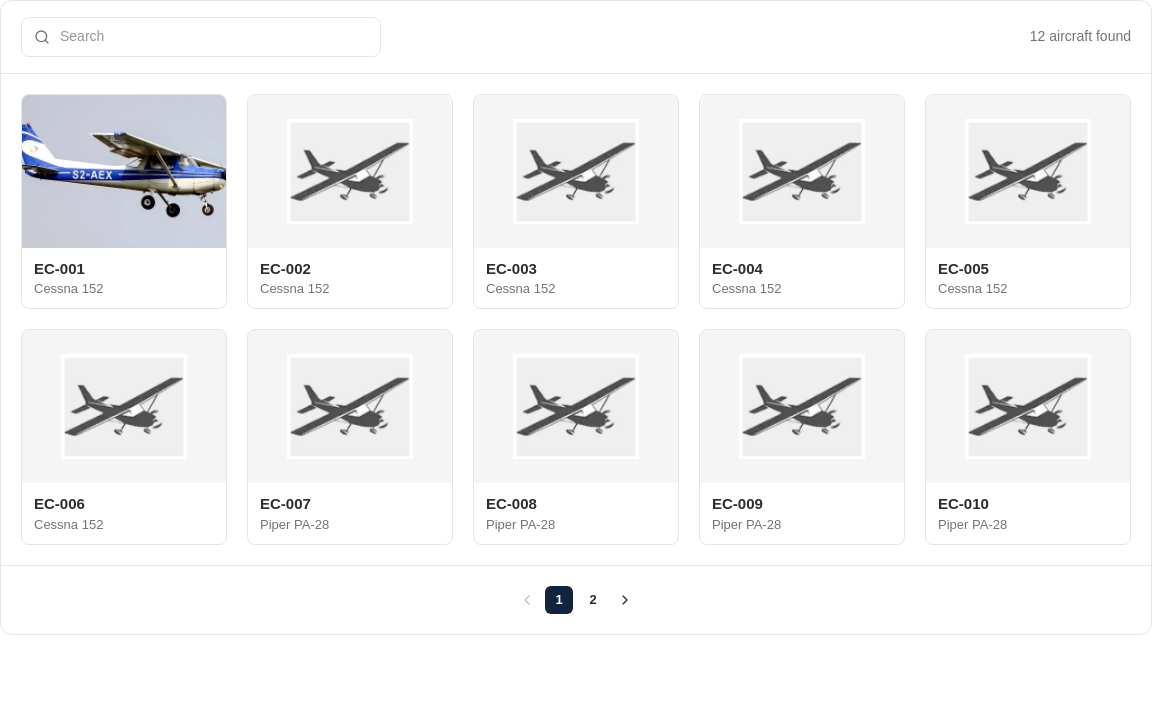
Test case: AircraftDirectory › paginates the fleet with the arrows and the numbered pages, disabling each end
The width and height of the screenshot is (1152, 720).
Expected: the link "EC-001 Cessna 152" is shown, [21, 94, 227, 309]
Expected: the link "EC-011 " is not shown
Click the button named "Next page". click: click(625, 600)
box: [613, 588, 637, 612]
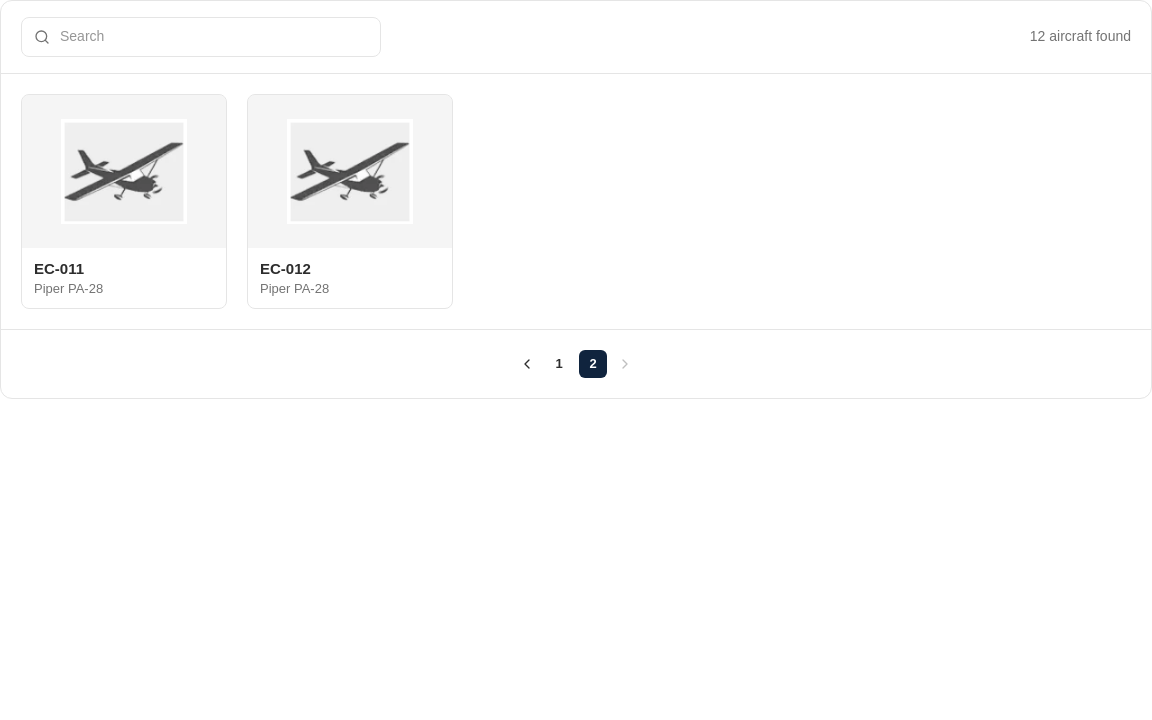
Expected: the button named "Next page" is disabled, [613, 352, 637, 376]
Expected: the link "EC-011 Piper PA-28" is shown, [21, 94, 227, 309]
Expected: the link "EC-001 " is gone
Click the button named "Previous page". click: click(527, 364)
box: [515, 352, 539, 376]
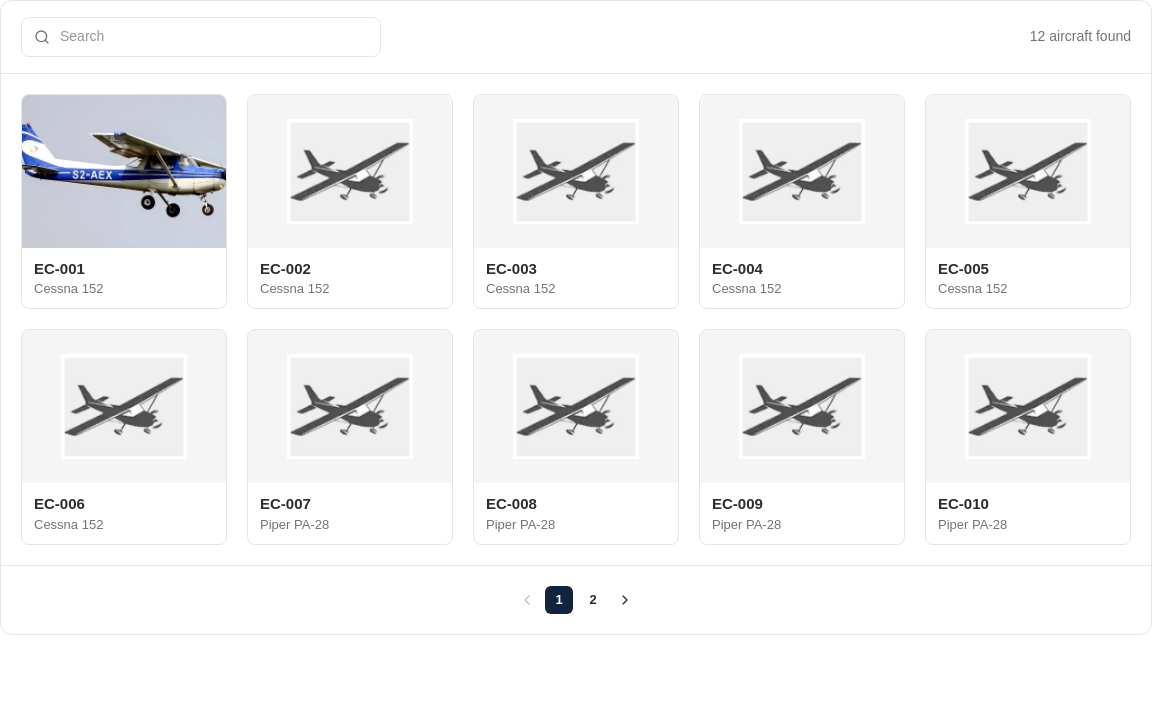
Expected: the link "EC-001 Cessna 152" is shown, [21, 94, 227, 309]
Click the button named "Page 2". click: click(593, 600)
box: [579, 586, 607, 614]
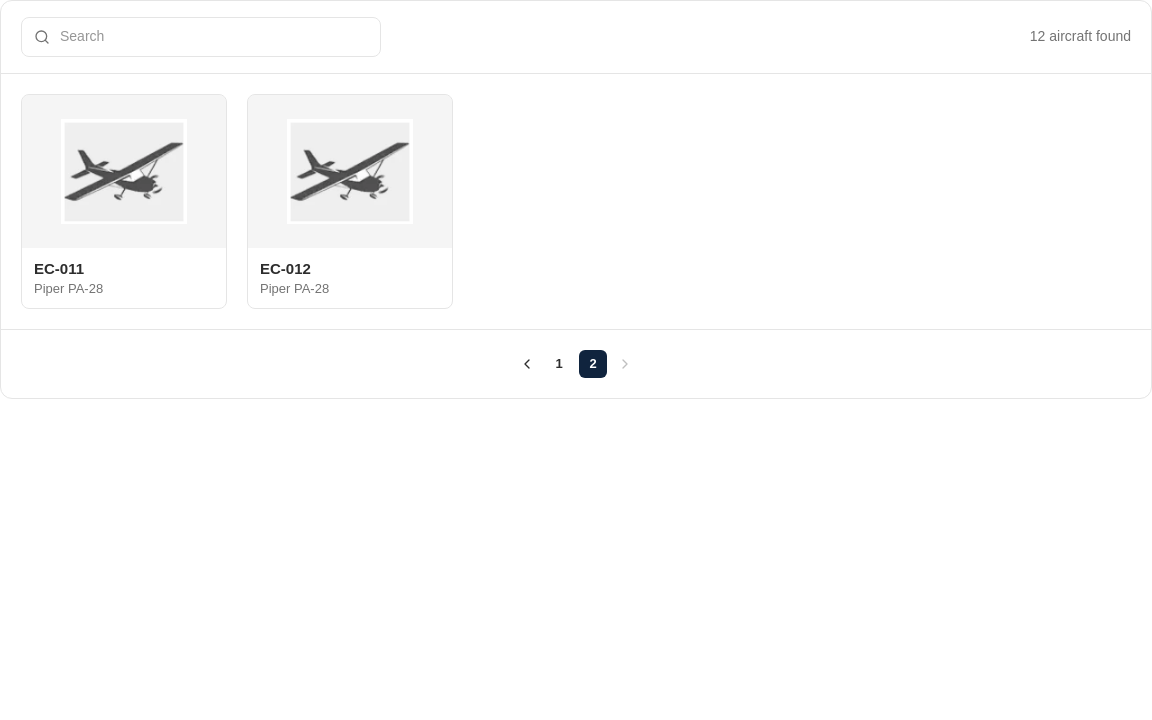
Expected: the link "EC-011 Piper PA-28" is shown, [21, 94, 227, 309]
